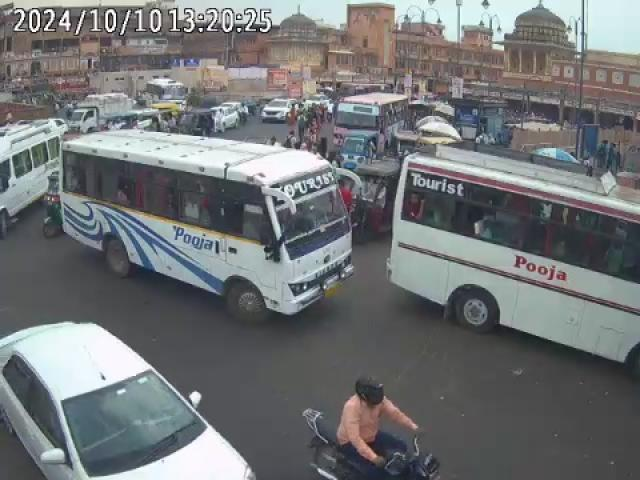auto: (190, 108, 218, 136)
bus: (386, 146, 636, 398), (58, 128, 358, 322), (0, 114, 68, 230), (335, 88, 410, 154)
car: (0, 316, 259, 476), (260, 97, 296, 123), (210, 103, 242, 130)
helmet: (353, 377, 388, 406)
scooty-rider: (299, 375, 441, 480)
